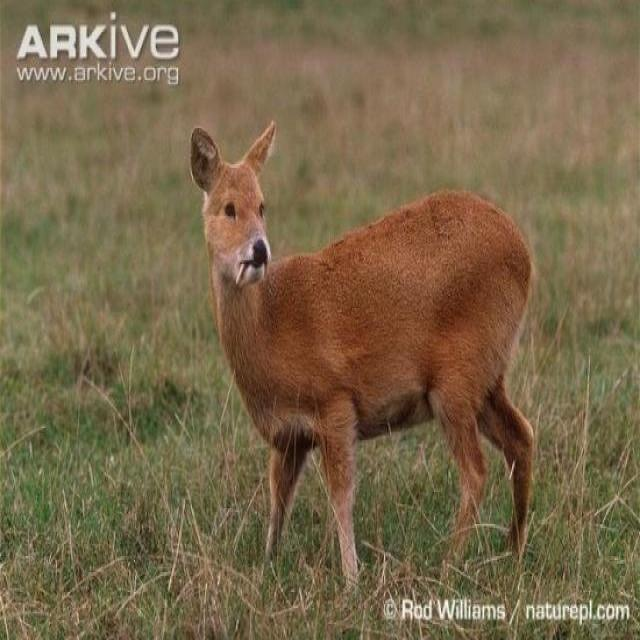deer: (176, 126, 551, 594)
